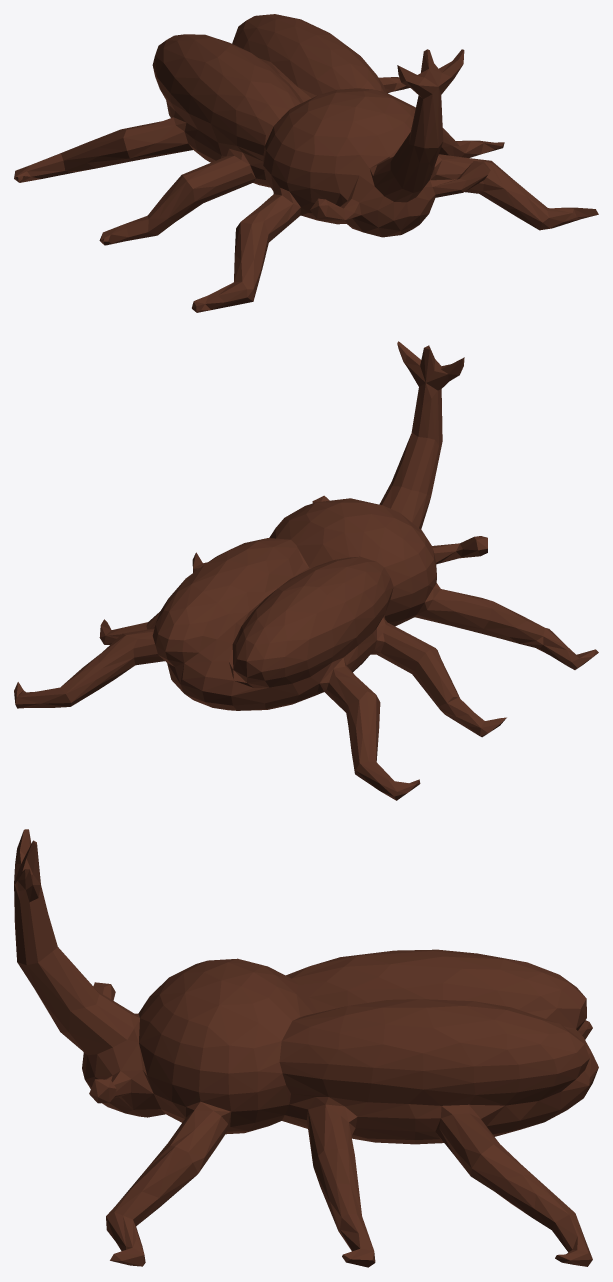
The model's file is NEW_RECOVERY_069_LOD2.glb.
The picture shows the model from 3 angles, top to bottom: view 1: azimuth 30°, elevation 25°; view 2: azimuth 150°, elevation 25°; view 3: azimuth 270°, elevation 25°; orthographic projection. The views are drawn at different scales.
Parts seen in each view (by area): view 1: abdomen; view 2: abdomen; view 3: abdomen.
Boxes of the visible parts, box(x1,y1,x2,y2) form: abdomen: box(14, 14, 598, 312); abdomen: box(14, 341, 598, 800); abdomen: box(14, 829, 598, 1267).
Bounding box in the file's own units: 3.93 × 2.31 × 3.94.
